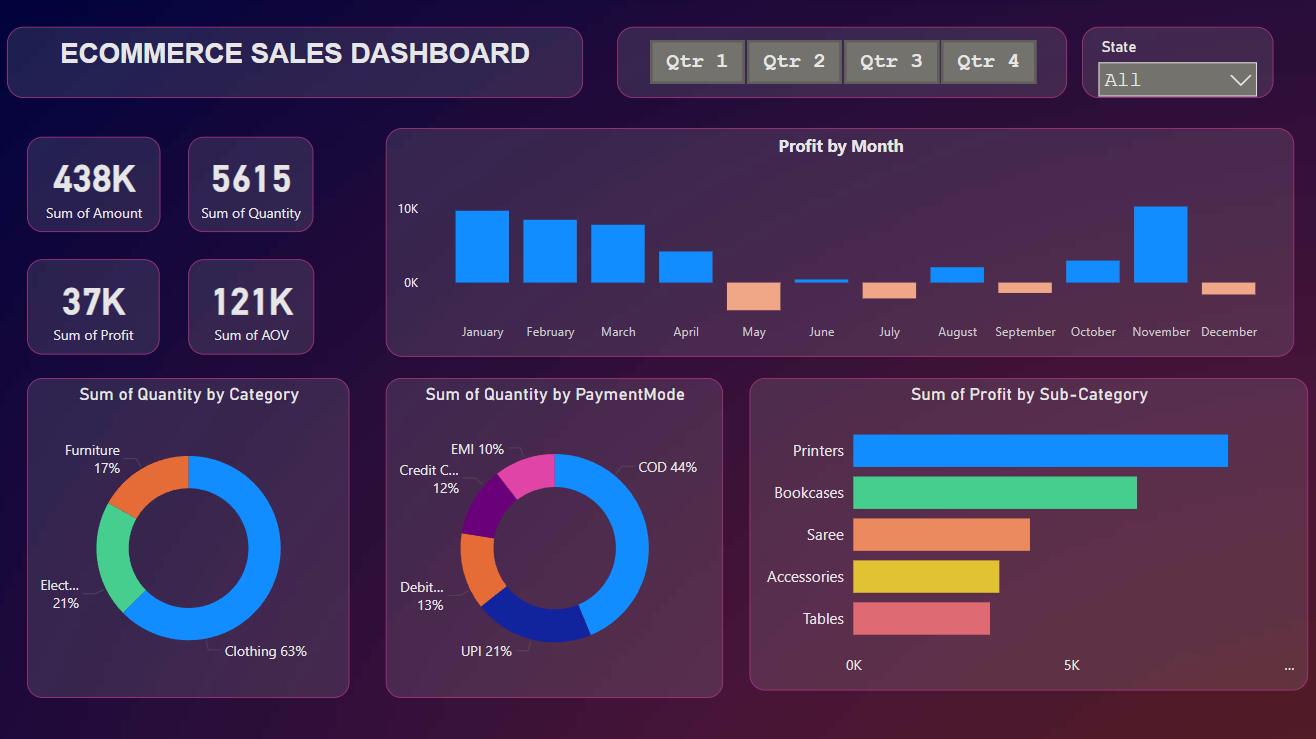

Layout of this report page (visuals, bound fields, positions):
{"tool":"powerbi","page":{"name":"Page 1","canvas":[1280,720],"ordinal":0},"visuals":[{"type":"textbox","box":[9.7,27.7,556.2,68.8],"z":0},{"type":"columnChart","title":"Profit by Month","fields":{"Y":["Sum(Details.Profit)"],"Category":["Orders.Order Date.Variation.Date Hierarchy.Month"]},"box":[375.2,125.5,877.1,220.8],"z":1000},{"type":"barChart","fields":{"Category":["Details.Sub-Category"],"Y":["Sum(Details.Profit)"]},"box":[725.9,366.4,539.3,301.9],"z":2000},{"type":"donutChart","fields":{"Category":["Details.Category"],"Y":["Sum(Details.Quantity)"]},"box":[28.8,366.4,311.5,308.7],"z":3000},{"type":"donutChart","fields":{"Y":["Sum(Details.Quantity)"],"Category":["Details.PaymentMode"]},"box":[375.2,366.8,325.7,308.8],"z":4000},{"type":"card","fields":{"Values":["Sum(Details.Amount)"]},"box":[29,133.9,129.1,91.7],"z":5000},{"type":"card","fields":{"Values":["Sum(Details.Quantity)"]},"box":[184.6,133.9,120.6,91.7],"z":6000},{"type":"card","fields":{"Values":["Sum(Details.Profit)"]},"box":[29,252.1,127.9,91.7],"z":7000},{"type":"card","fields":{"Values":["Sum(Details.AOV)"]},"box":[184.6,252.1,121.9,91.7],"z":8000},{"type":"slicer","fields":{"Values":["Orders.Order Date.Variation.Date Hierarchy.Quarter"]},"box":[598.4,27.7,434.3,68.8],"z":8001},{"type":"slicer","fields":{"Values":["Orders.State"]},"box":[1047.2,27.7,184.6,68.8],"z":8002}]}

Visuals, with their boxes in screenshot pixels (x1, y1, x2, y2), scaled from the page's 1280x720 canvas onto the 1316x739 screenshot:
textbox: 10, 28, 582, 99
"Profit by Month" columnChart: 386, 129, 1288, 355
barChart - Details.Sub-Category x Sum(Details.Profit): 746, 376, 1301, 686
donutChart - Details.Category x Sum(Details.Quantity): 30, 376, 350, 693
donutChart - Sum(Details.Quantity) x Details.PaymentMode: 386, 376, 721, 693
card - Sum(Details.Amount): 30, 137, 163, 232
card - Sum(Details.Quantity): 190, 137, 314, 232
card - Sum(Details.Profit): 30, 259, 161, 353
card - Sum(Details.AOV): 190, 259, 315, 353
slicer - Orders.Order Date.Variation.Date Hierarchy.Quarter: 615, 28, 1062, 99
slicer - Orders.State: 1077, 28, 1266, 99
